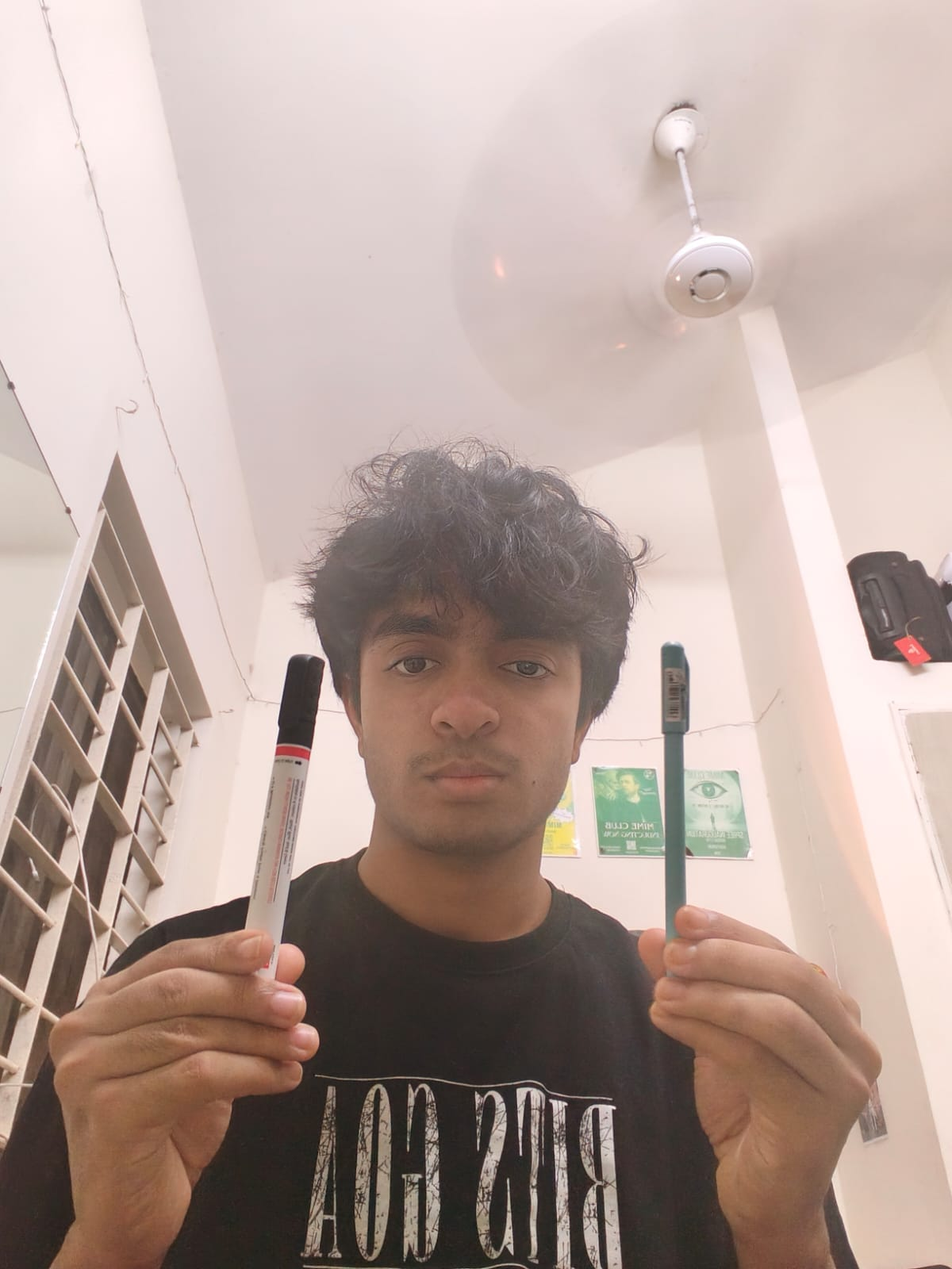case: (235, 648, 323, 1005)
pen: (644, 634, 725, 945)
